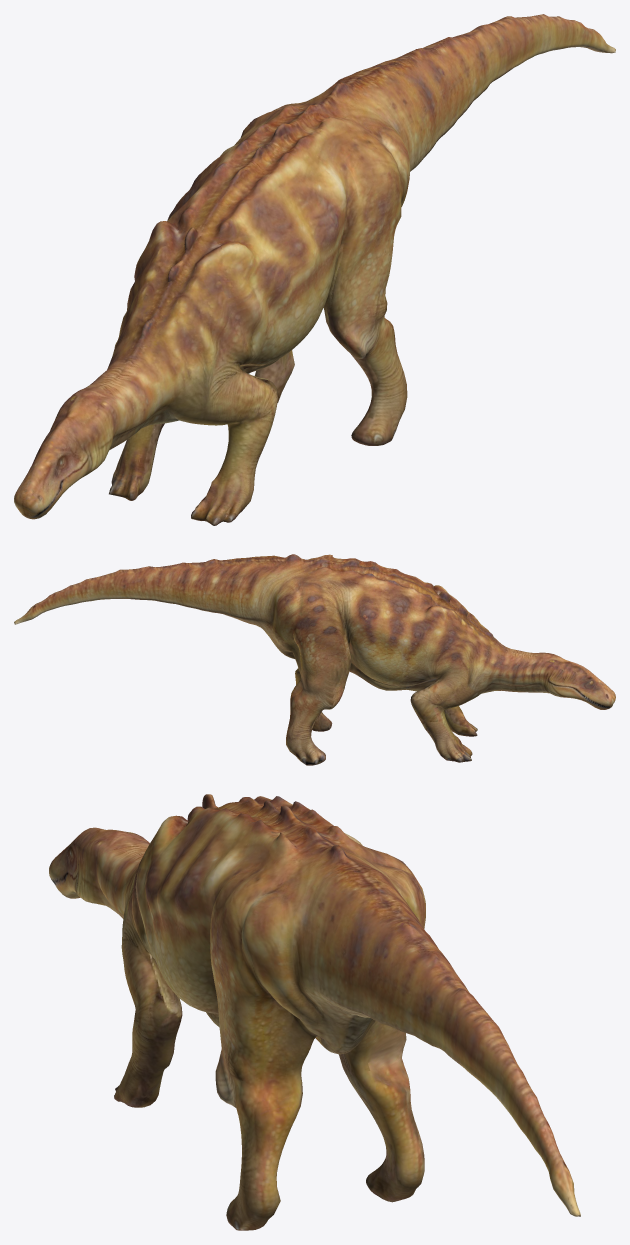
3 views of the same model, one above another, from view 1: azimuth 30°, elevation 25°; view 2: azimuth 150°, elevation 25°; view 3: azimuth 270°, elevation 25° (orthographic). The views are drawn at different scales.
Visible parts, largest first — view 1: Mesh0.001; view 2: Mesh0.001; view 3: Mesh0.001.
Boxes of the visible parts, x1,y1,x2,y2 form: Mesh0.001: (14, 14, 615, 525); Mesh0.001: (14, 554, 615, 765); Mesh0.001: (49, 794, 580, 1230).
Bounding box in the file's own units: 0.0973 × 0.0375 × 0.0473.
1 material, 1 textured.
